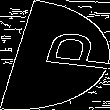P_W: (7, 32, 103, 78)
